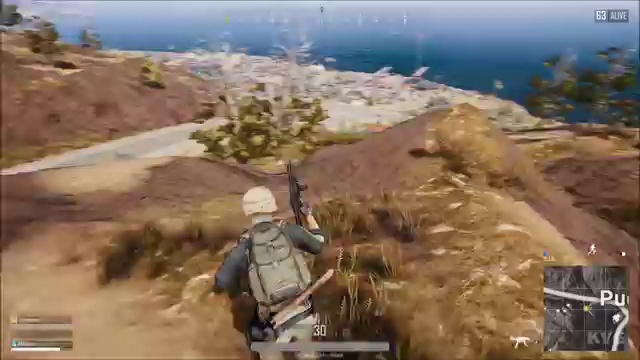Player: (201, 151, 356, 323)
